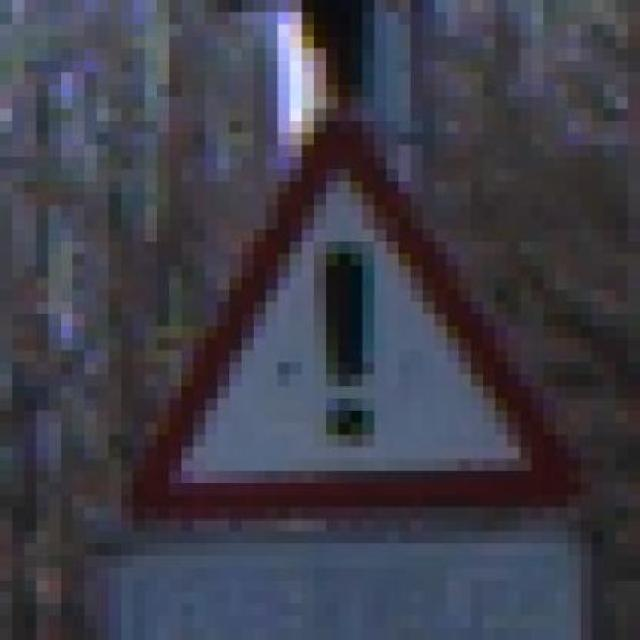Attention Please-: (109, 120, 592, 532)
